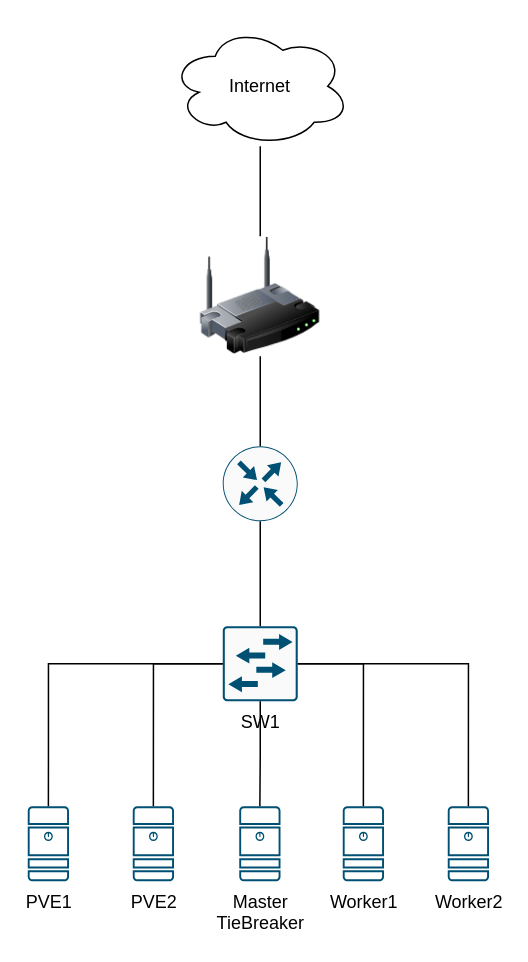
Some shapes in this 528 by 962 pixel diagram are drawn without their labels. Each missing label, with the centre of its shape:
"RT1" goes at point 259,483.
"Swisscom Internet Box" goes at point 260,296.
